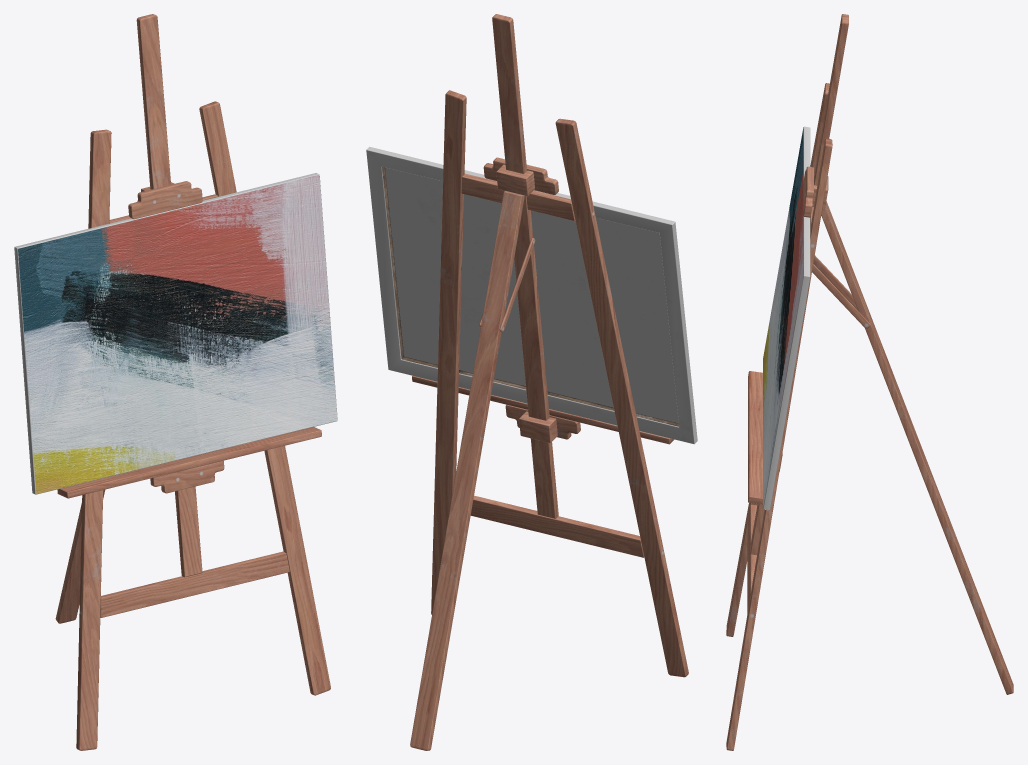
3 views of the same model, side by side, from view 1: azimuth 30°, elevation 25°; view 2: azimuth 150°, elevation 25°; view 3: azimuth 270°, elevation 25° (orthographic).
Parts seen in each view (by area): view 1: Easel3_Easel1_0_6; view 2: Easel3_Easel1_0_6; view 3: Easel3_Easel1_0_6.
Part boxes in pixels (bbox=[...]): Easel3_Easel1_0_6: bbox=[14, 14, 337, 750]; Easel3_Easel1_0_6: bbox=[366, 14, 697, 750]; Easel3_Easel1_0_6: bbox=[726, 14, 1013, 750].
Bounding box in the file's own units: 0.9615 × 2 × 0.7746.
1 material, 1 textured.
